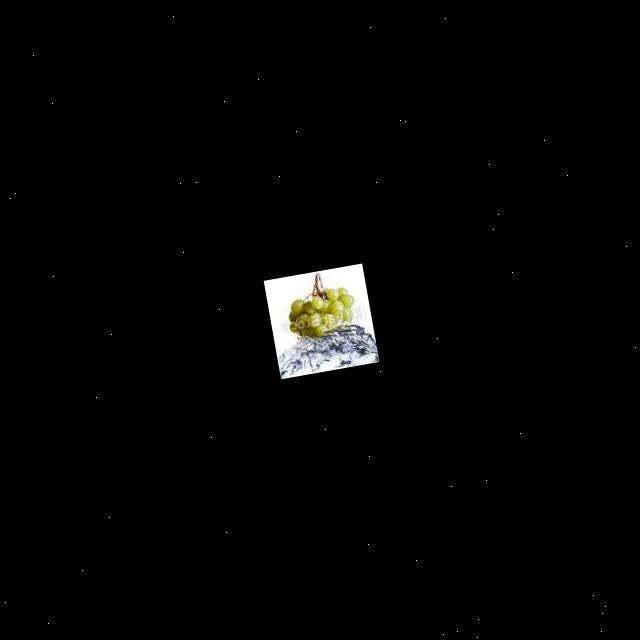grape: (282, 284, 356, 340)
